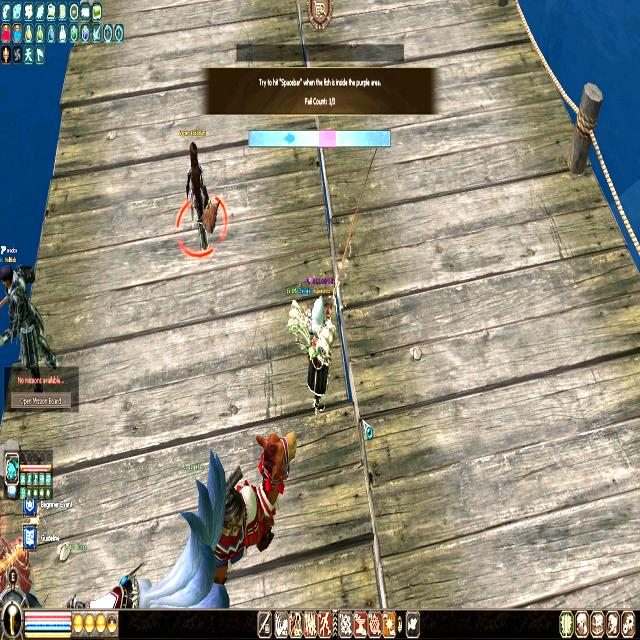fishes: (283, 131, 295, 145)
